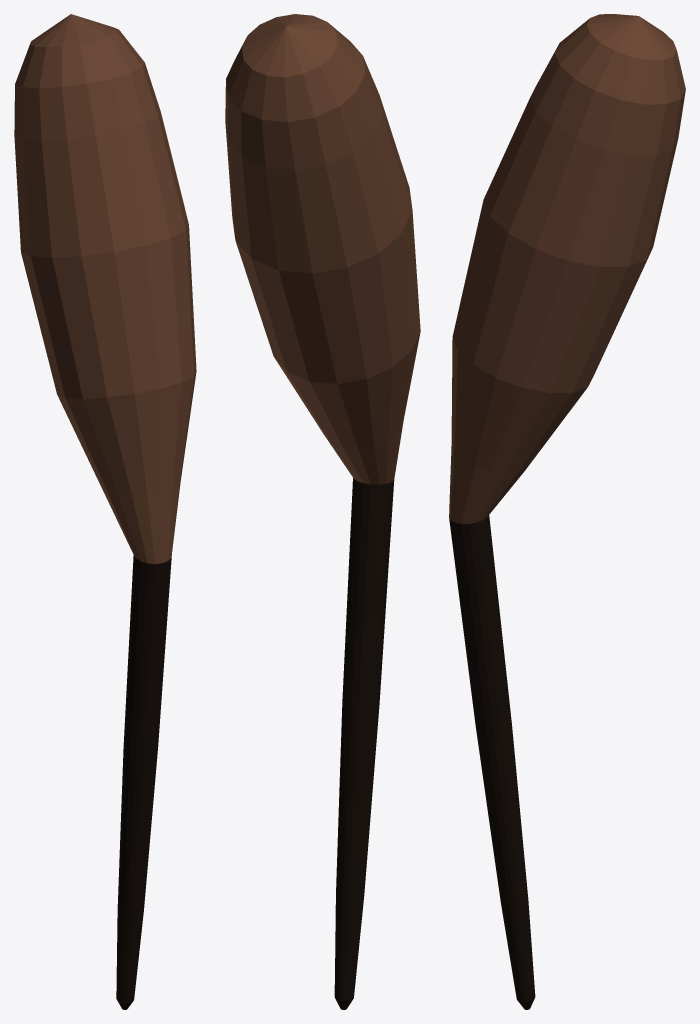
The model's file is cogwork_dancer_corpse_leg.glb.
3 views of the same model, side by side, from view 1: azimuth 30°, elevation 25°; view 2: azimuth 150°, elevation 25°; view 3: azimuth 270°, elevation 25° (orthographic). The views are drawn at different scales.
Visible parts, largest first — view 1: Leg; view 2: Leg; view 3: Leg.
Boxes of the visible parts, <box> form: Leg: <box>14,14,196,1009</box>; Leg: <box>225,14,420,1009</box>; Leg: <box>449,14,685,1009</box>.
Bounding box in the file's own units: 0.3114 × 1.92 × 0.4152.
